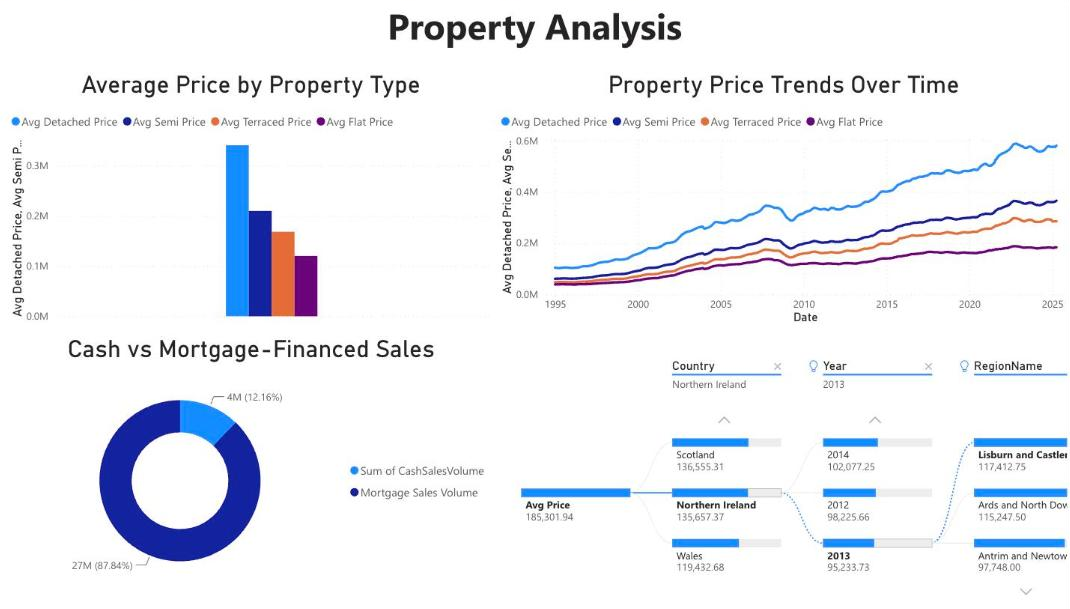

This screenshot's page, from the dashboard's own definition file:
{"tool":"powerbi","page":{"name":"Property Analysis","canvas":[1280,720],"ordinal":2},"visuals":[{"type":"clusteredColumnChart","title":"Average Price by Property Type","fields":{"Y":["HPI.Avg Detached Price","HPI.Avg Semi Price","HPI.Avg Terraced Price","HPI.Avg Flat Price"]},"box":[10,90.2,583.6,305],"z":0},{"type":"lineChart","title":"Property Price Trends Over Time","fields":{"Category":["DateTable.Date"],"Y":["HPI.Avg Detached Price","HPI.Avg Semi Price","HPI.Avg Terraced Price","HPI.Avg Flat Price"]},"box":[593.7,90.2,686.3,305],"z":1000},{"type":"donutChart","title":"Cash vs Mortgage-Financed Sales","fields":{"Y":["Sum(HPI.CashSalesVolume)","HPI.Mortgage Sales Volume"]},"box":[9.7,405.5,584.1,305],"z":2000},{"type":"decompositionTreeVisual","fields":{"Analyze":["HPI.Avg Price"],"ExplainBy":["HPI.Country","DateTable.Year","HPI.RegionName"]},"box":[593.7,414.1,686.3,305],"z":3000},{"type":"textbox","box":[0,0,1280,75.3],"z":4000}]}

Visuals, with their boxes in screenshot pixels (x1, y1, x2, y2), scaled from the page's 1280x720 canvas onto the 1070x609 screenshot:
"Average Price by Property Type" clusteredColumnChart: rect(8, 76, 496, 334)
"Property Price Trends Over Time" lineChart: rect(496, 76, 1069, 334)
"Cash vs Mortgage-Financed Sales" donutChart: rect(8, 343, 496, 601)
decompositionTreeVisual - HPI.Avg Price x HPI.Country: rect(496, 350, 1069, 608)
textbox: rect(0, 0, 1069, 64)
